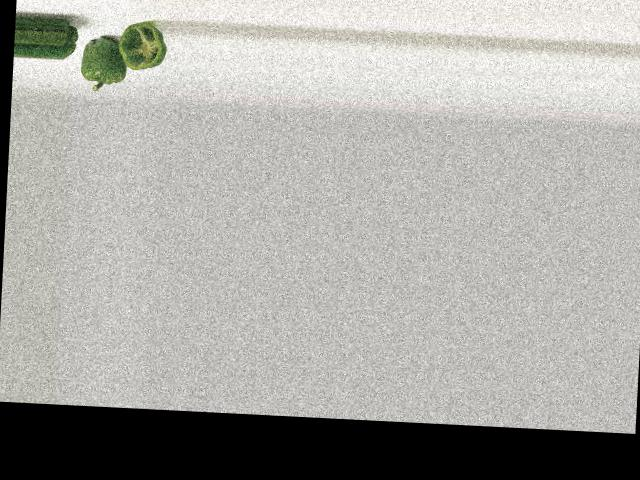bell_pepper: (114, 17, 170, 76)
